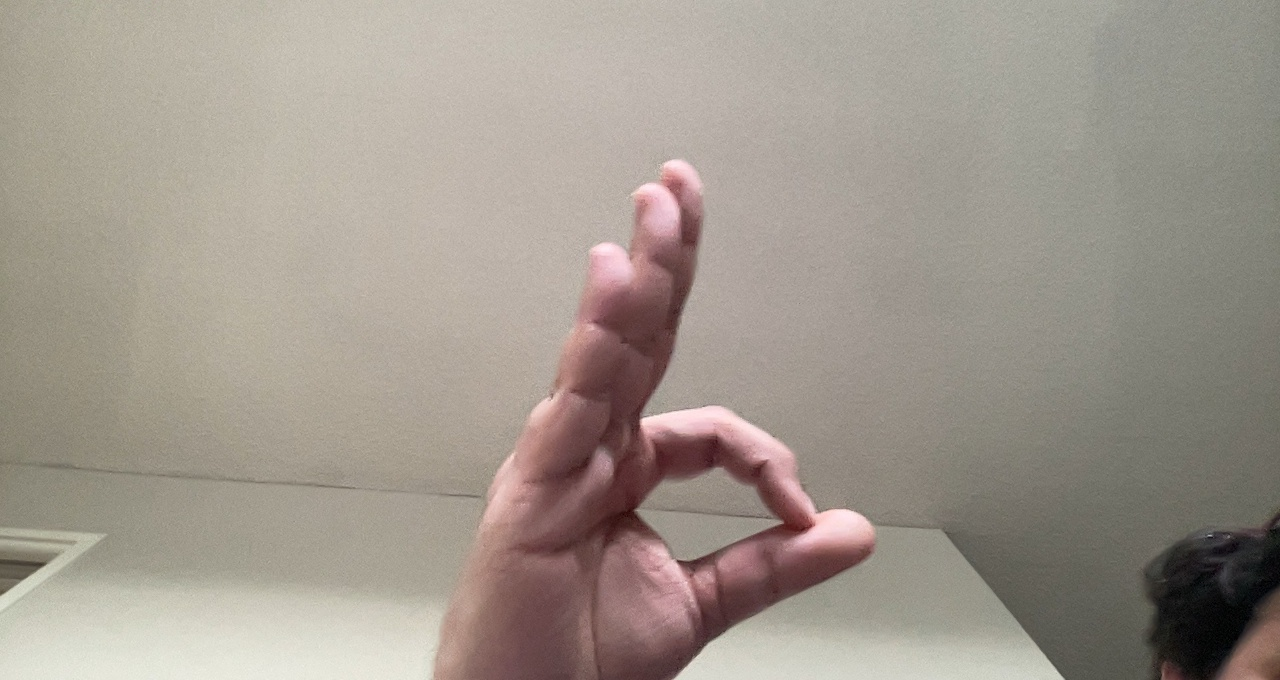ok: (468, 153, 883, 665)
